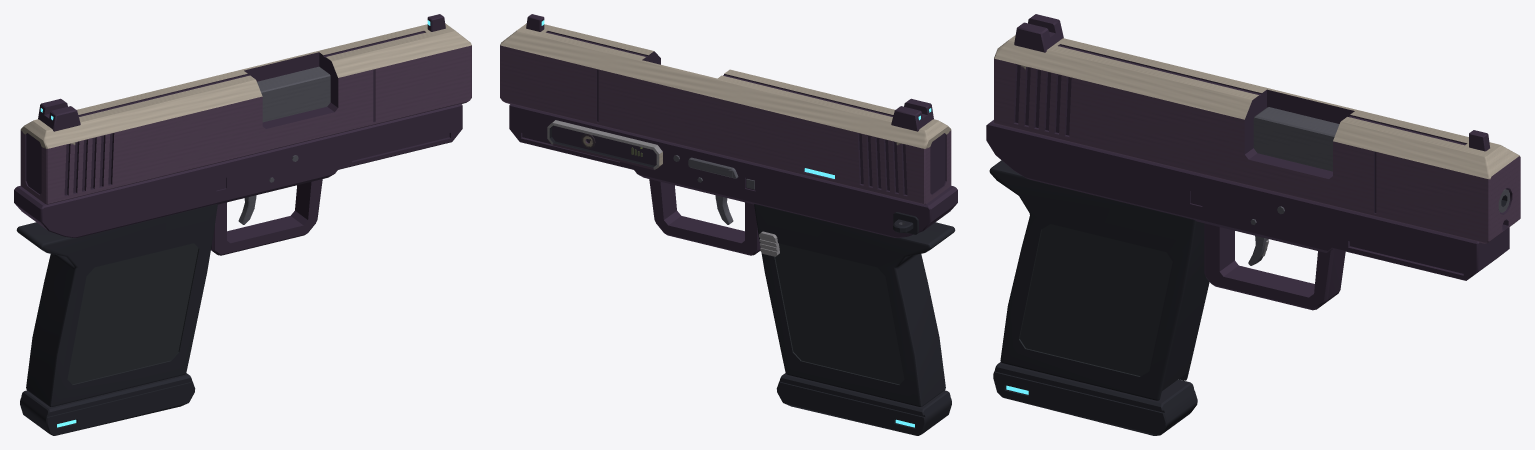
Rendered from Classic_Playback_v01.fbx.
The picture shows the model from 3 angles, left to right: view 1: azimuth 30°, elevation 25°; view 2: azimuth 150°, elevation 25°; view 3: azimuth 330°, elevation 25°; orthographic projection. The views are drawn at different scales.
Visible parts, largest first — view 1: Classic_Slide, Classic_Grip, Classic_Frame, Classic_Magazine, Classic_Barrel; view 2: Classic_Slide, Classic_Grip, Classic_Frame, Classic_Magazine, Playback_SmokedWindow, Playback_CassetteHousing, Classic_SlideCatch, Classic_CharmLoop; view 3: Classic_Slide, Classic_Grip, Classic_Frame, Classic_Magazine, Classic_Barrel.
Boxes of the visible parts, bbox=[...] form: Classic_Slide: bbox=[20, 14, 471, 204]; Classic_Grip: bbox=[16, 204, 217, 406]; Classic_Frame: bbox=[14, 104, 462, 255]; Classic_Magazine: bbox=[20, 373, 195, 435]; Classic_Barrel: bbox=[257, 66, 330, 122]; Classic_Slide: bbox=[500, 14, 951, 204]; Classic_Grip: bbox=[754, 204, 955, 406]; Classic_Frame: bbox=[509, 104, 957, 255]; Classic_Magazine: bbox=[776, 373, 951, 435]; Playback_SmokedWindow: bbox=[550, 126, 656, 166]; Playback_CassetteHousing: bbox=[547, 120, 662, 169]; Classic_SlideCatch: bbox=[688, 157, 738, 178]; Classic_CharmLoop: bbox=[893, 212, 918, 234]; Classic_Slide: bbox=[994, 14, 1520, 243]; Classic_Grip: bbox=[989, 160, 1209, 400]; Classic_Frame: bbox=[986, 120, 1509, 310]; Classic_Magazine: bbox=[993, 362, 1197, 435]; Classic_Barrel: bbox=[1253, 107, 1509, 212].
Bounding box in the file's own units: 128 × 90.58 × 19.23.
14 materials, 13 textured.
